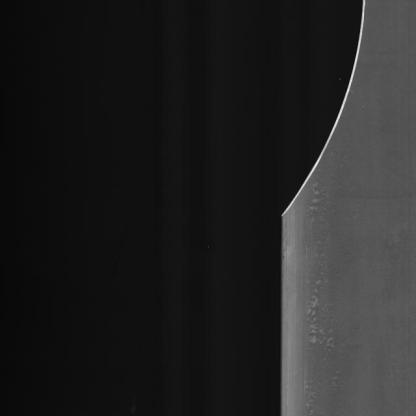crescent_gap: (260, 0, 378, 226)
